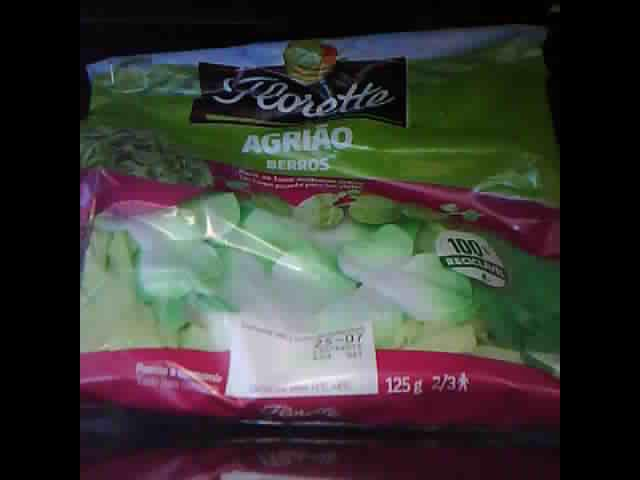florette: (80, 19, 559, 431)
